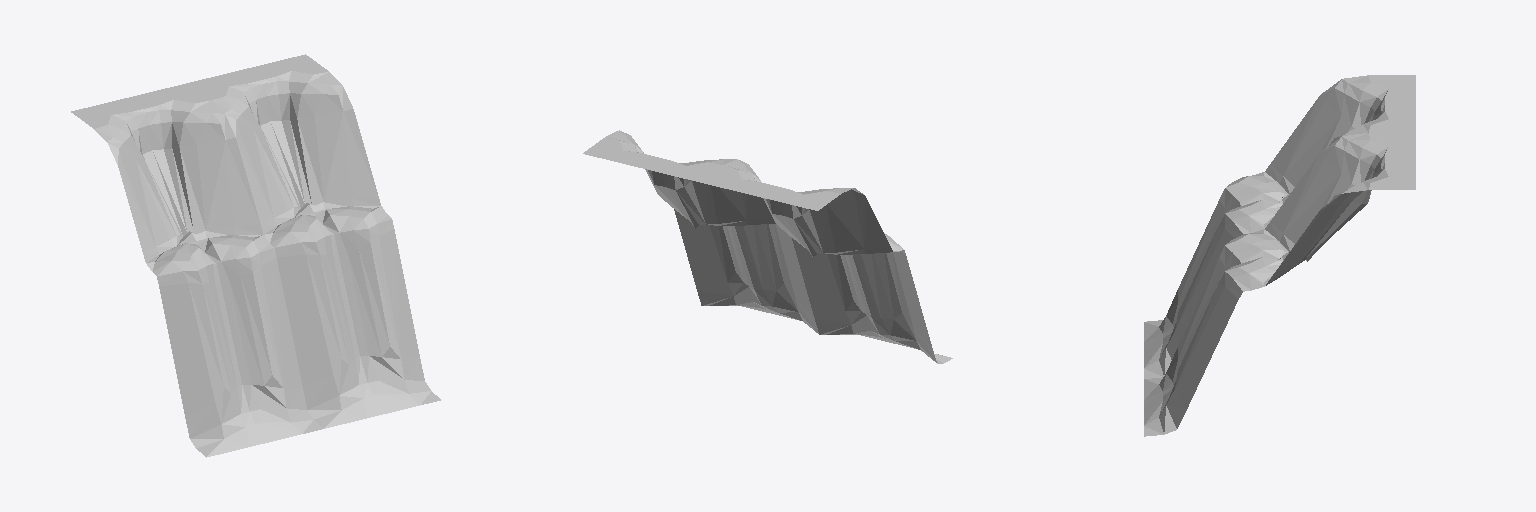
The model's file is Cliff.obj.
The picture shows the model from 3 angles: view 1: azimuth 30°, elevation 25°; view 2: azimuth 150°, elevation 25°; view 3: azimuth 270°, elevation 25°; orthographic projection.
Parts seen in each view (by area): view 1: Cliff_Edge_mesh; view 2: Cliff_Edge_mesh; view 3: Cliff_Edge_mesh.
Boxes of the visible parts, x1,y1,x2,y2 form: Cliff_Edge_mesh: [71, 54, 440, 457]; Cliff_Edge_mesh: [583, 130, 952, 363]; Cliff_Edge_mesh: [1144, 75, 1415, 436].
Bounding box in the file's own units: 2 × 2 × 2.